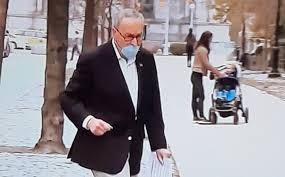mask_weared_incorrect: (120, 30, 145, 59)
